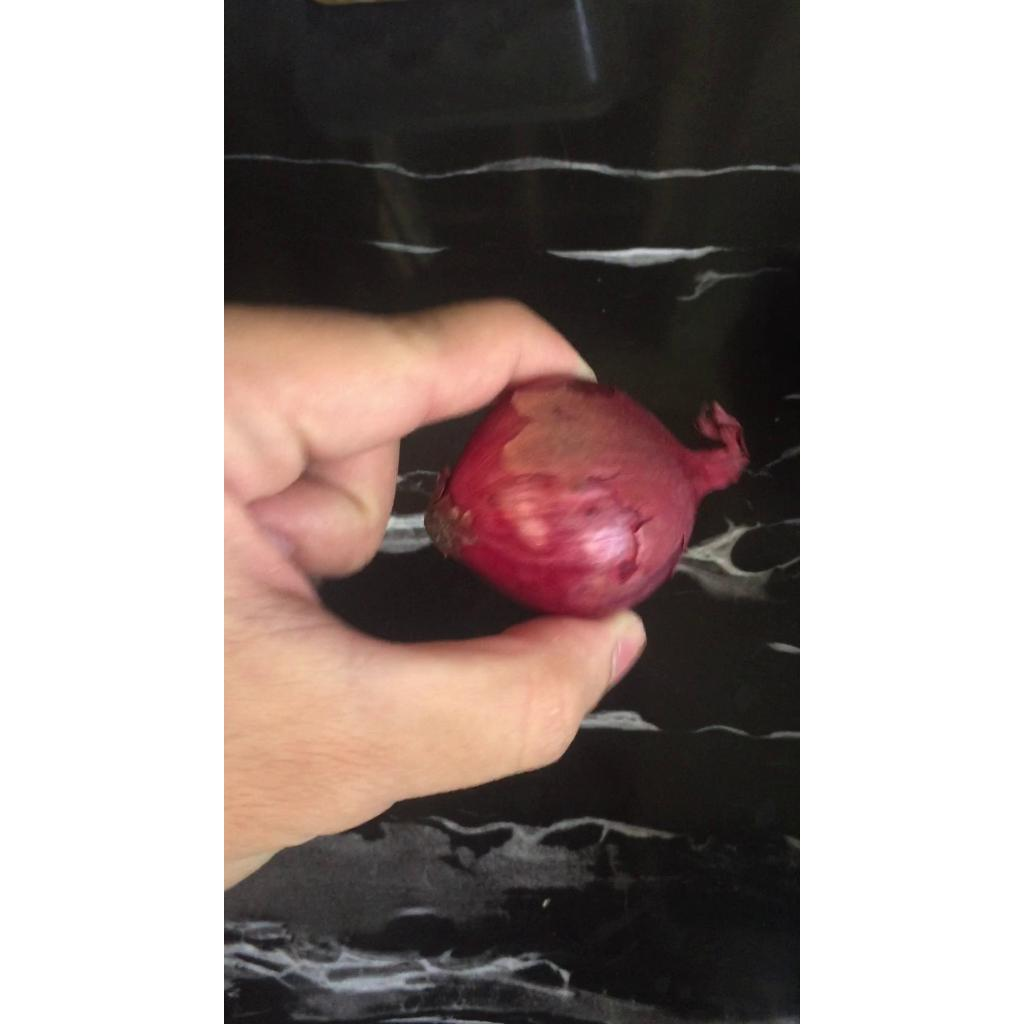Onion: (424, 378, 747, 618)
